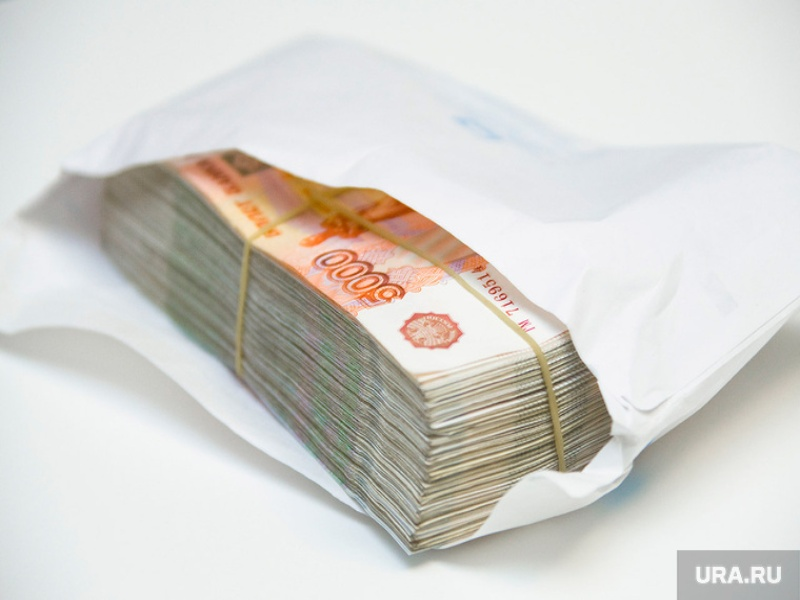cash: (102, 150, 611, 551)
